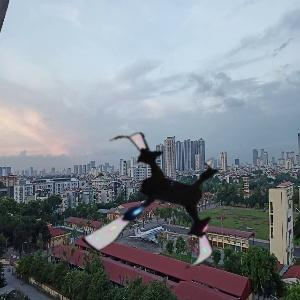drone: (75, 125, 237, 287)
